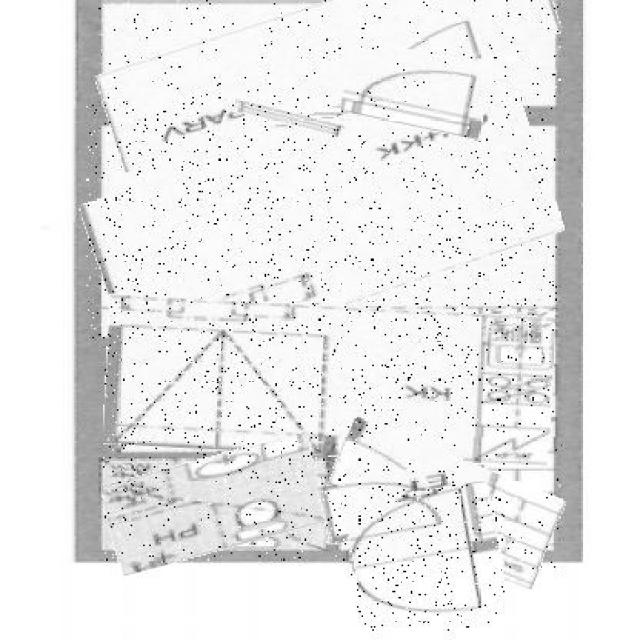door: (350, 486, 504, 631), (343, 46, 491, 132), (322, 469, 456, 540)
window: (232, 104, 345, 130)
zone: (86, 94, 557, 341), (104, 300, 554, 462), (97, 0, 560, 138), (326, 437, 563, 569), (105, 446, 326, 563)
